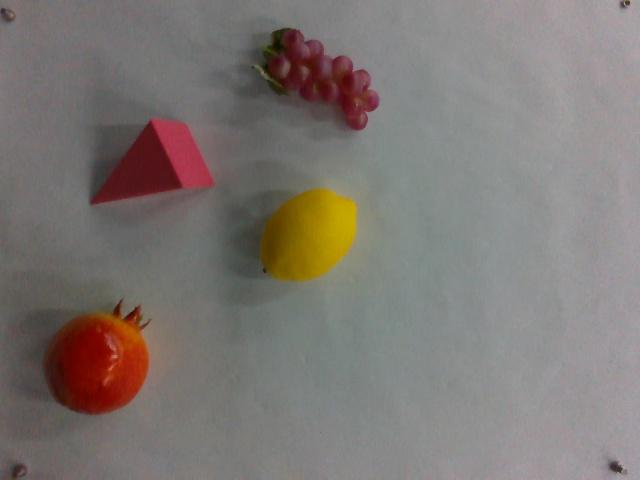grape: (256, 26, 382, 135)
lemon: (260, 188, 357, 286)
pomegranate: (48, 299, 152, 421)
pyramid: (87, 116, 213, 211)
